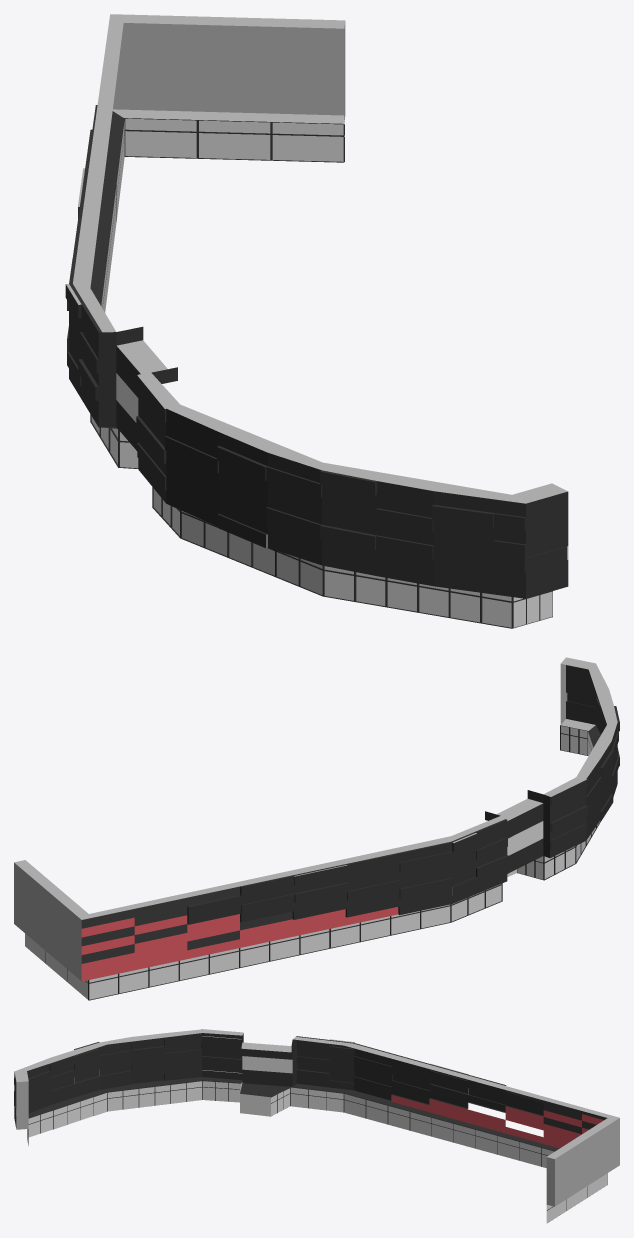
File: Arena.fbx
3 views of the same model, one above another, from view 1: azimuth 30°, elevation 25°; view 2: azimuth 150°, elevation 25°; view 3: azimuth 270°, elevation 25° (orthographic). The views are drawn at different scales.
Visible parts, largest first — view 1: Plane; view 2: Plane; view 3: Plane.
Part boxes in pixels (<box>): Plane: <box>65,14,568,628</box>; Plane: <box>14,657,619,1000</box>; Plane: <box>14,1029,619,1223</box>.
Size of the model in its own units: 1440 by 345 by 2826.
